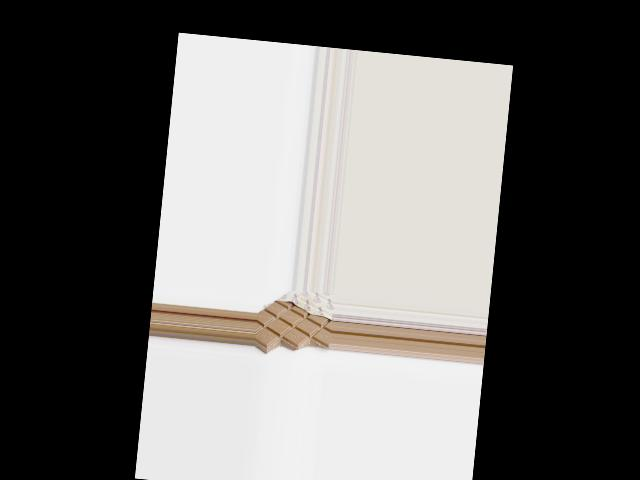chocolate: (255, 287, 335, 354)
